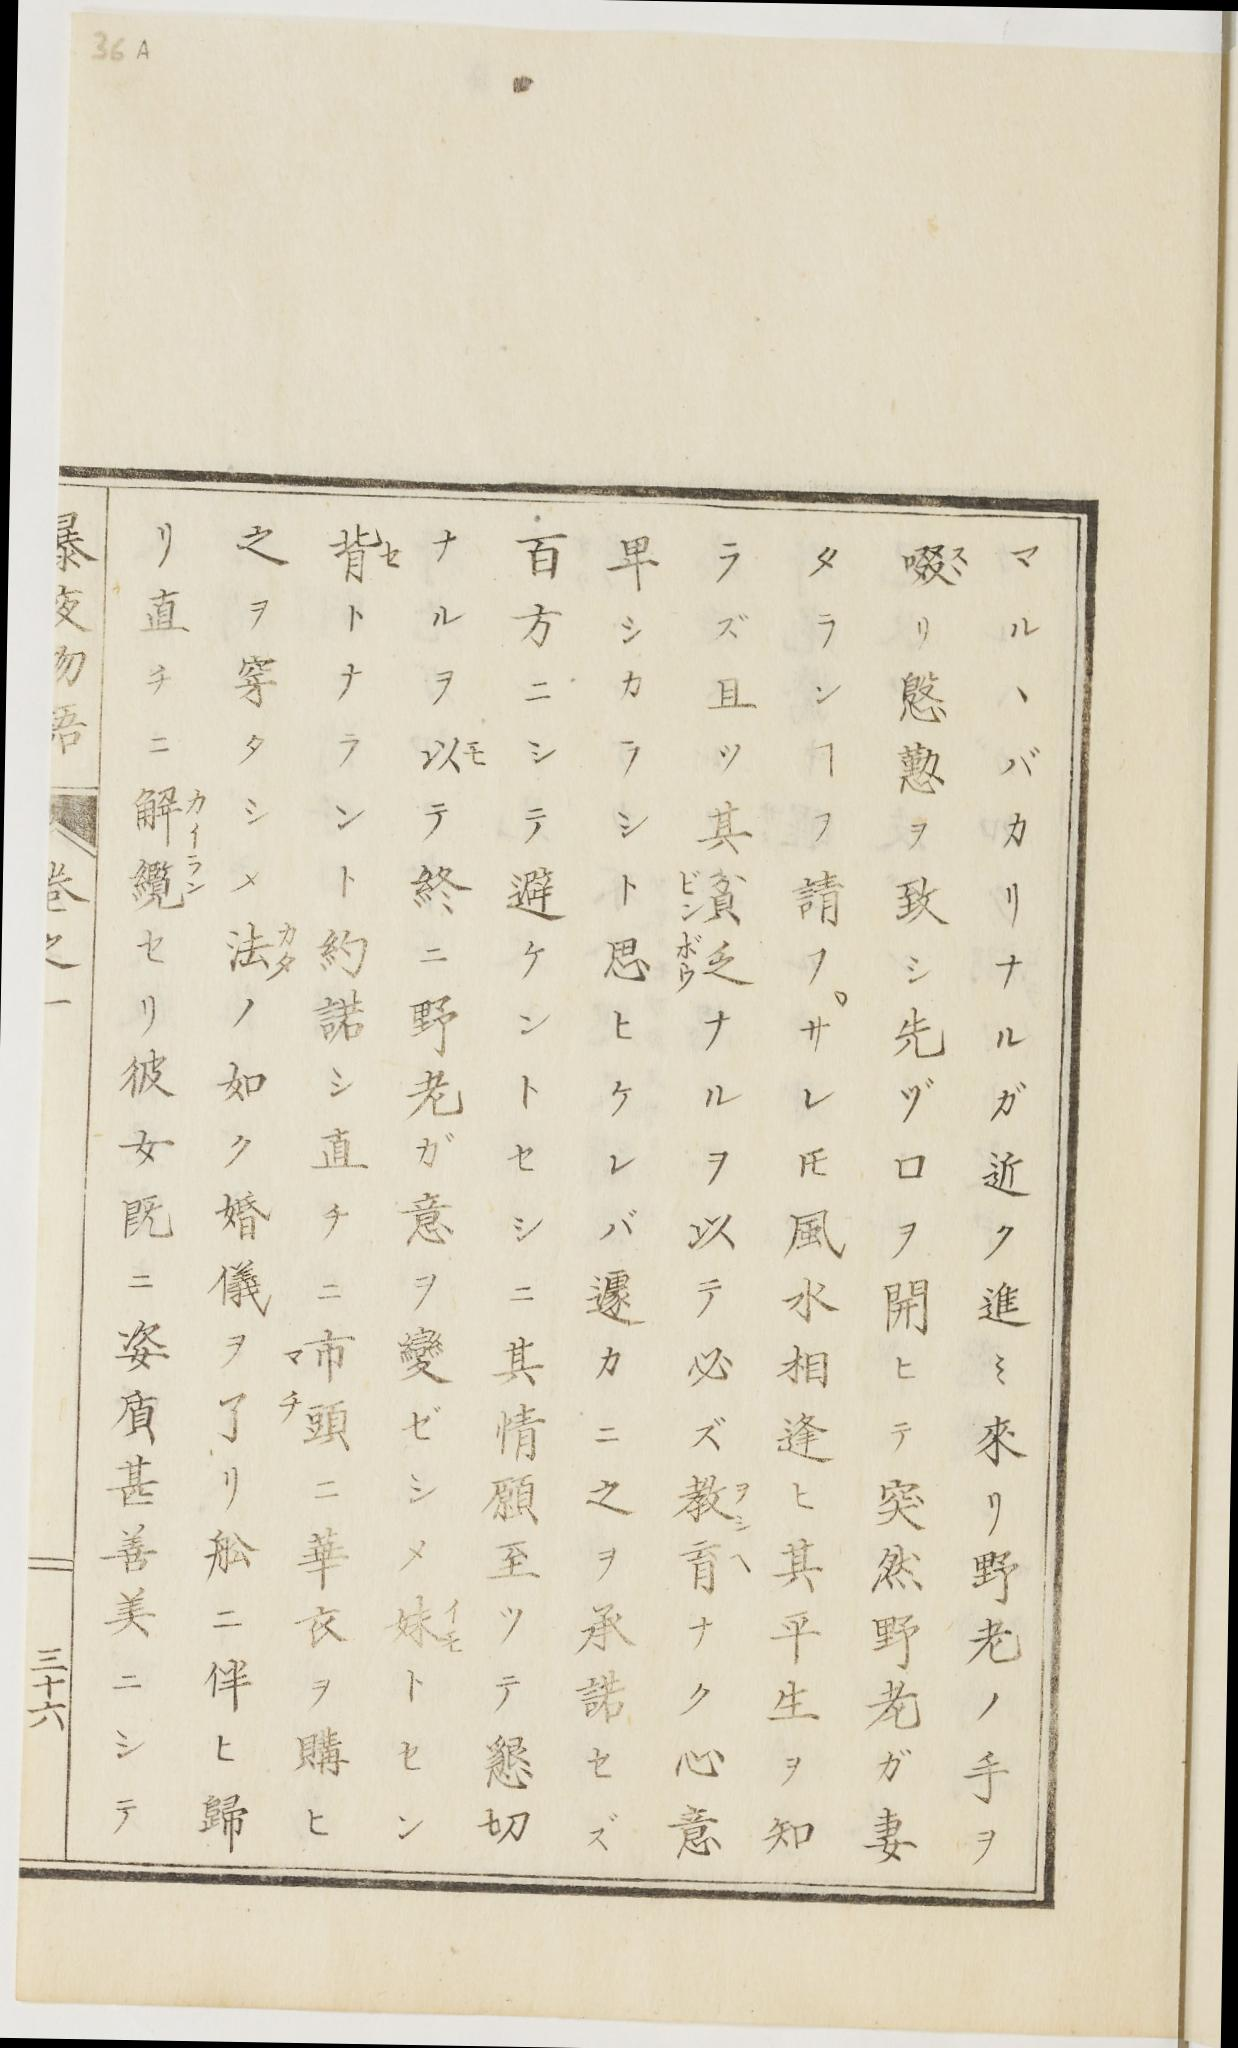MainZone-Character: (212, 913, 303, 985), (391, 1581, 468, 1660), (126, 847, 209, 916), (678, 1535, 757, 1605), (673, 1469, 758, 1533), (129, 786, 208, 847), (897, 534, 973, 591), (334, 521, 402, 584)
MainZone-Ruby: (271, 917, 300, 979), (440, 1595, 468, 1657), (183, 788, 208, 847), (729, 1482, 755, 1535), (179, 850, 206, 897), (727, 1546, 757, 1587), (379, 537, 404, 576), (947, 538, 970, 576)
